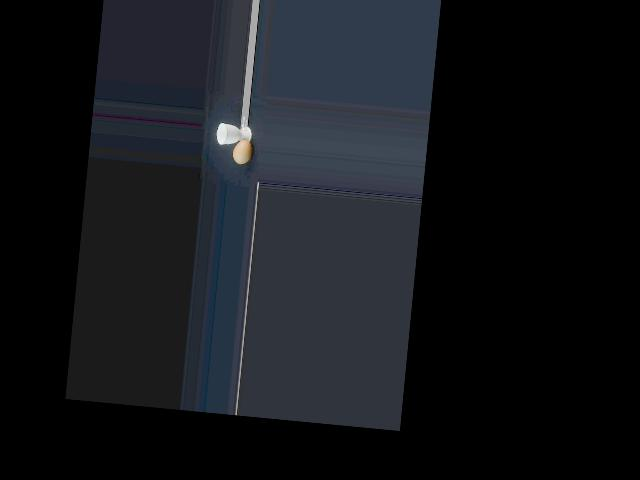egg: (232, 138, 252, 164)
